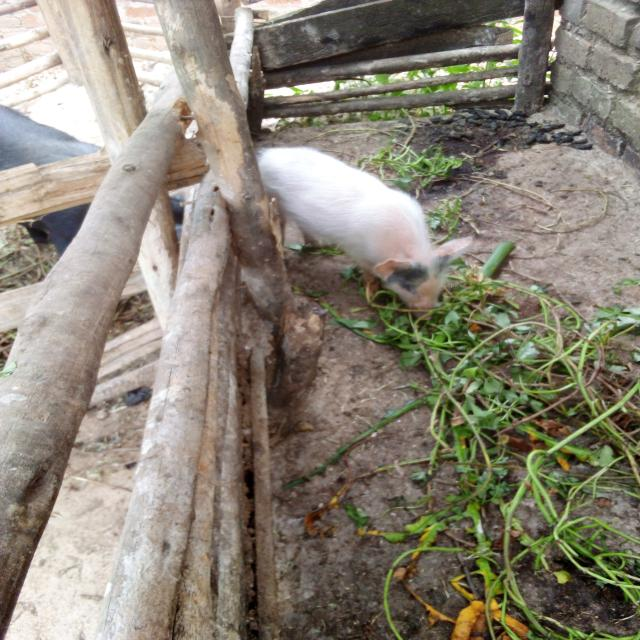pig: (204, 104, 505, 338)
